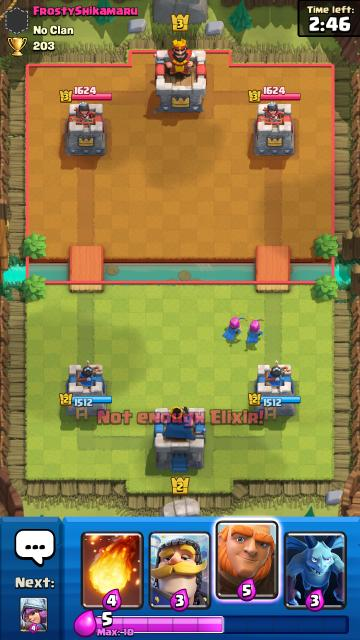ally_ranged: (223, 312, 247, 341), (246, 317, 265, 343)
